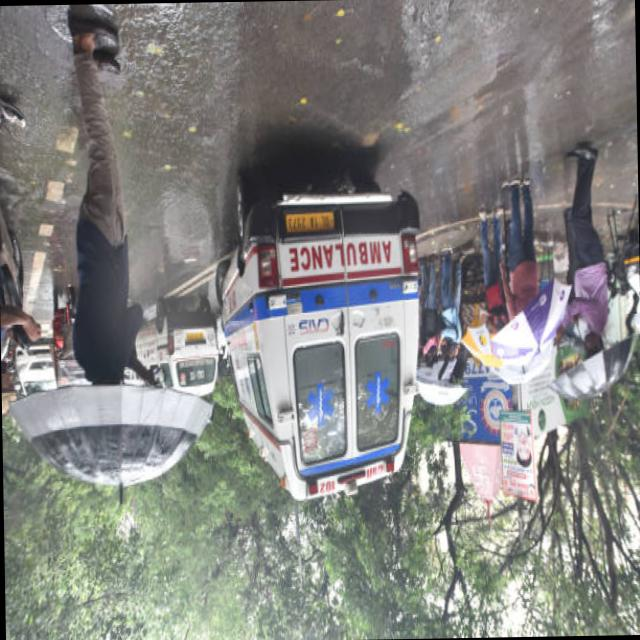ambulance: (298, 300, 409, 514), (285, 209, 409, 285)
